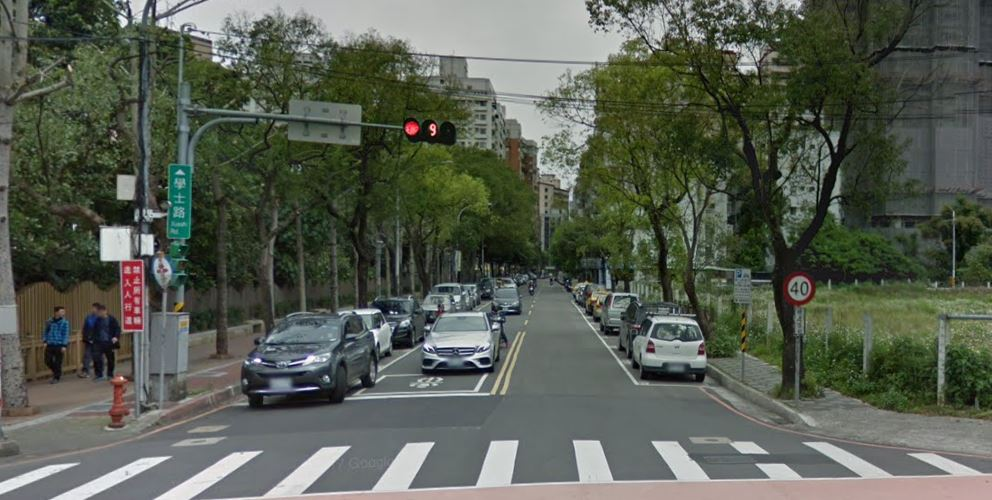Speed_limit_40km: (781, 270, 816, 305)
Traffic_light_red: (402, 117, 458, 144)
car: (419, 311, 501, 376)
